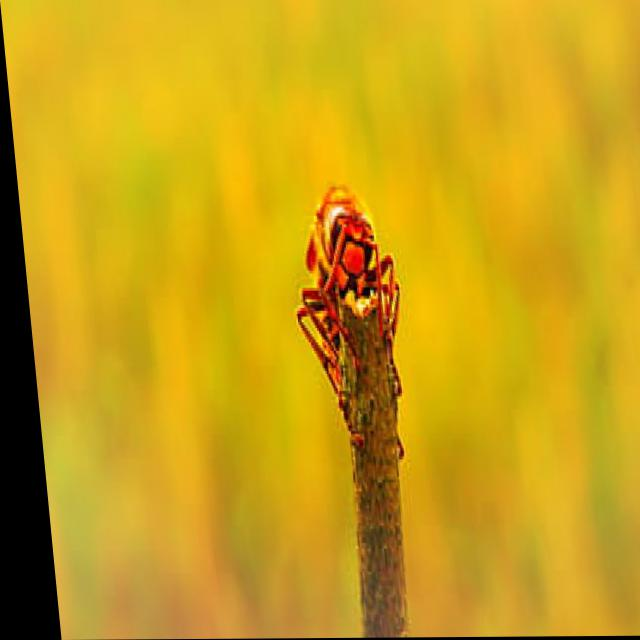Vespa Crabro: (272, 158, 413, 461)
